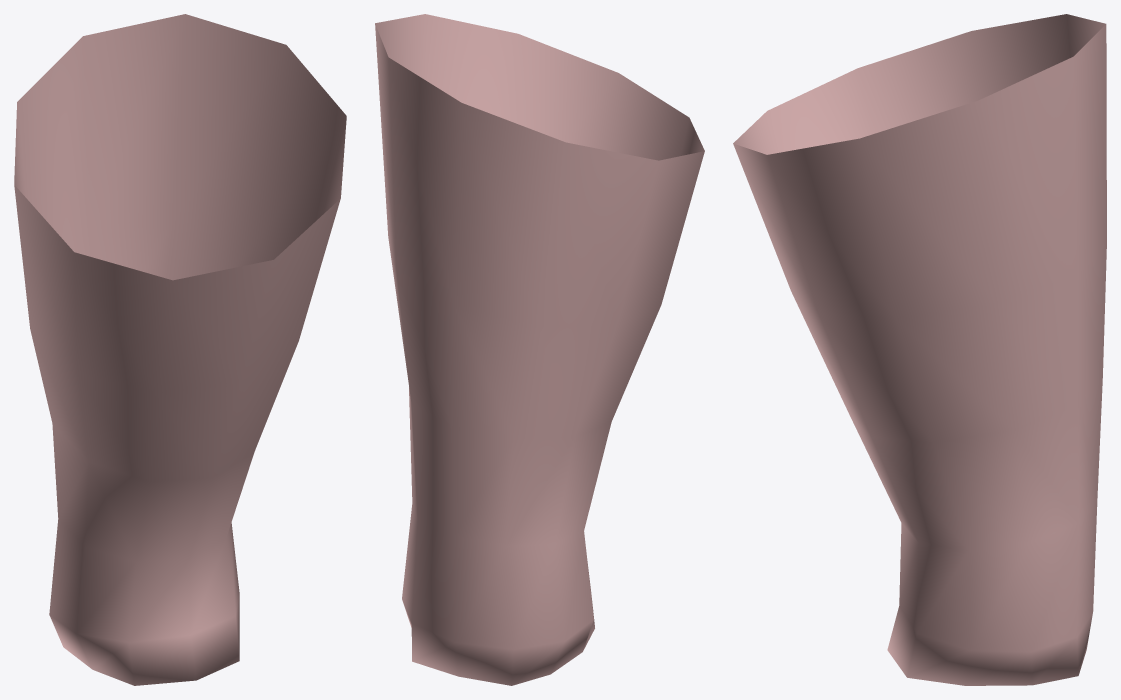
Rendered from Nendoroid_A_Foot04.fbx.
3 views of the same model, side by side, from view 1: azimuth 30°, elevation 25°; view 2: azimuth 150°, elevation 25°; view 3: azimuth 270°, elevation 25° (orthographic). The views are drawn at different scales.
Parts seen in each view (by area): view 1: Nendoroid_A_Foot04; view 2: Nendoroid_A_Foot04; view 3: Nendoroid_A_Foot04.
Part boxes in pixels (bbox=[...]): Nendoroid_A_Foot04: bbox=[14, 14, 346, 685]; Nendoroid_A_Foot04: bbox=[375, 14, 704, 685]; Nendoroid_A_Foot04: bbox=[733, 14, 1106, 685].
Size of the model in its own units: 0.2438 by 0.4854 by 0.2599.
